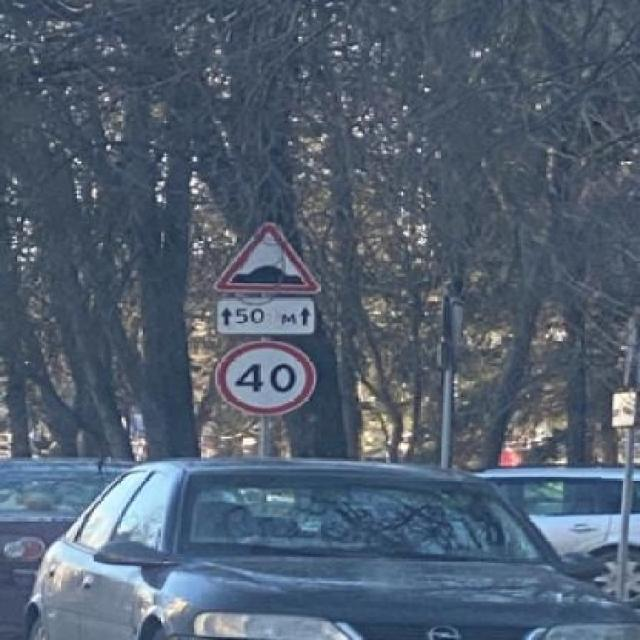forb_speed_over_40: (215, 340, 314, 415)
